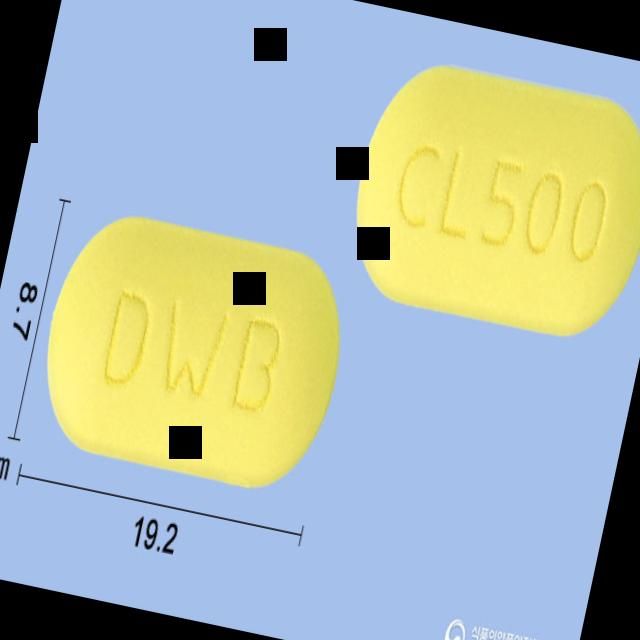Daewoong Bio Clarithromycin: (25, 197, 362, 505), (336, 51, 640, 349)
